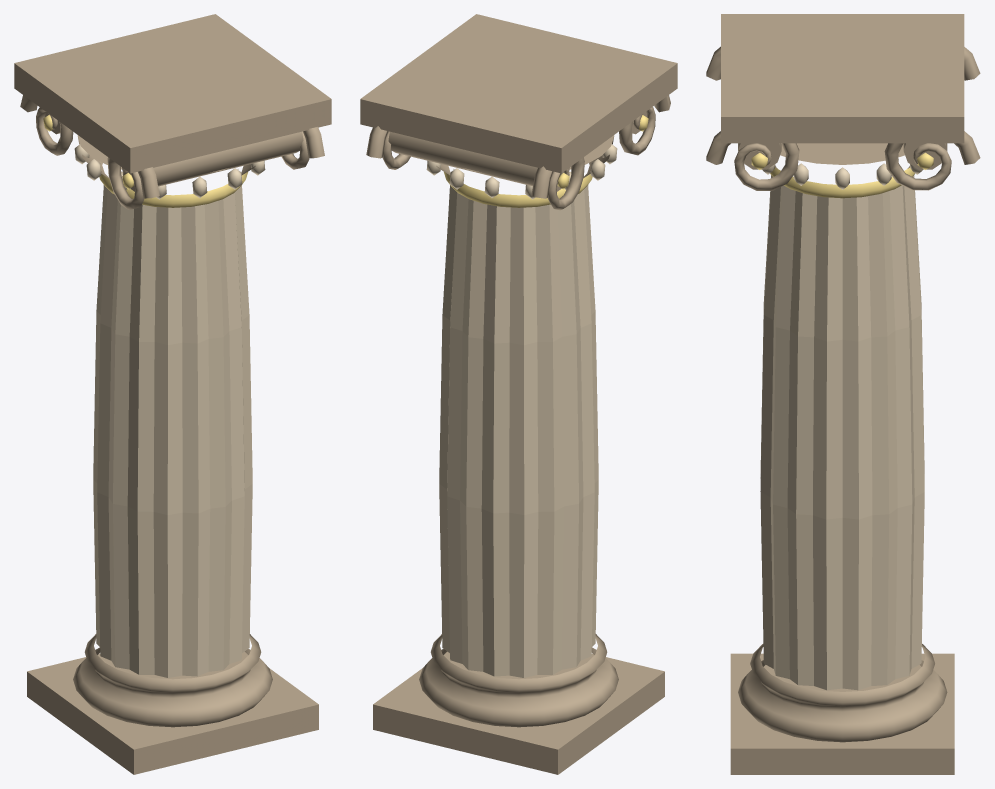
Rendered from building.column.glb.
The picture shows the model from 3 angles, left to right: view 1: azimuth 30°, elevation 25°; view 2: azimuth 150°, elevation 25°; view 3: azimuth 270°, elevation 25°; orthographic projection. The views are drawn at different scales.
Visible parts, largest first — view 1: Paint, PaintDark, Gold; view 2: Paint, PaintDark, Gold; view 3: Paint, PaintDark, Gold.
Part boxes in pixels (<box>): Paint: <box>74,144,265,677</box>; PaintDark: <box>14,14,331,774</box>; Gold: <box>43,115,247,207</box>; Paint: <box>426,144,617,677</box>; PaintDark: <box>360,14,677,774</box>; Gold: <box>444,115,648,207</box>; Paint: <box>760,163,924,690</box>; PaintDark: <box>706,14,980,774</box>; Gold: <box>751,152,933,198</box>.
Size of the model in its own units: 0.5 by 1.5 by 0.5626.
